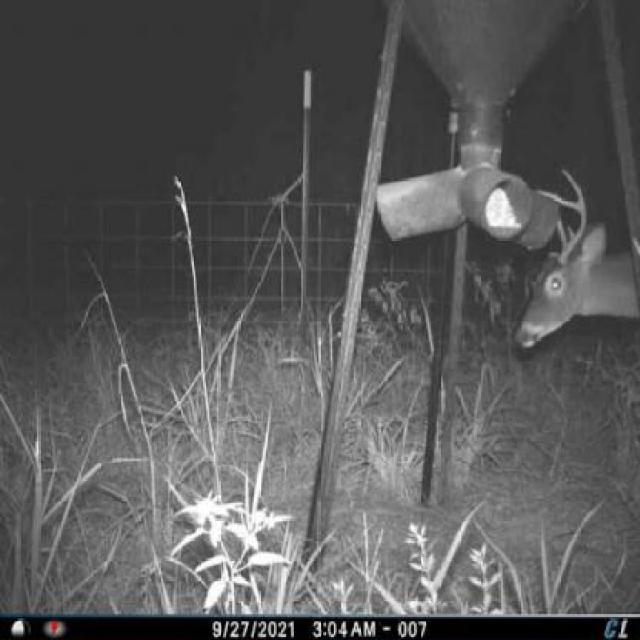Deer: (512, 158, 639, 376)
